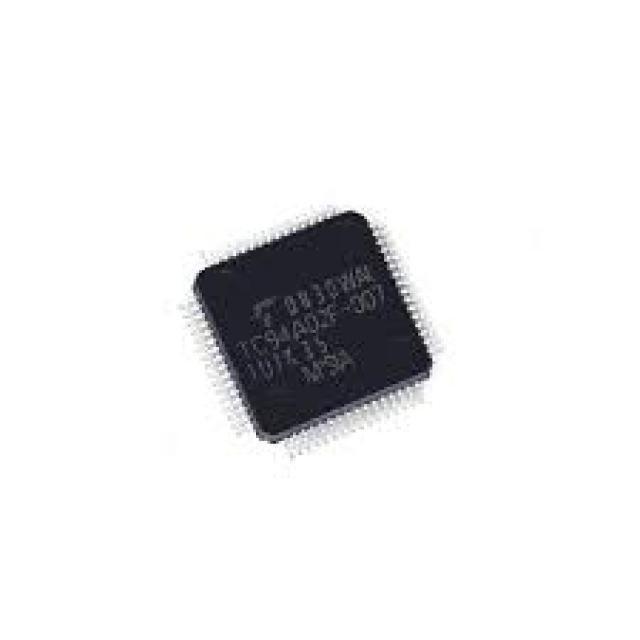IC: (192, 213, 431, 442)
